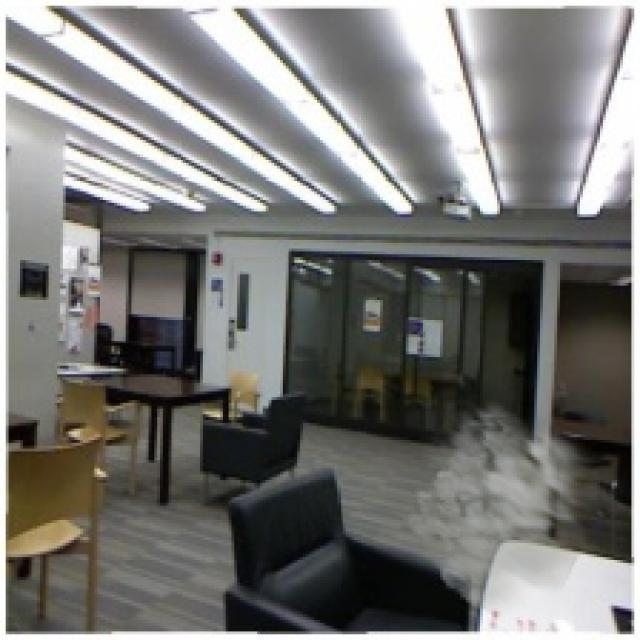smoke: (400, 391, 620, 623)
